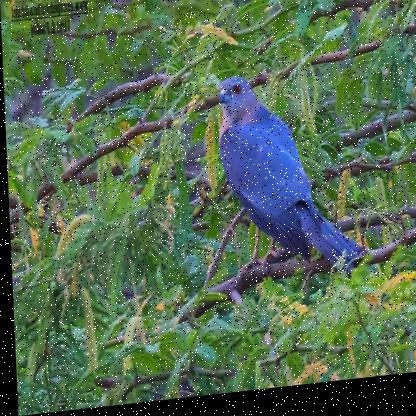Burung: (216, 70, 366, 288)
